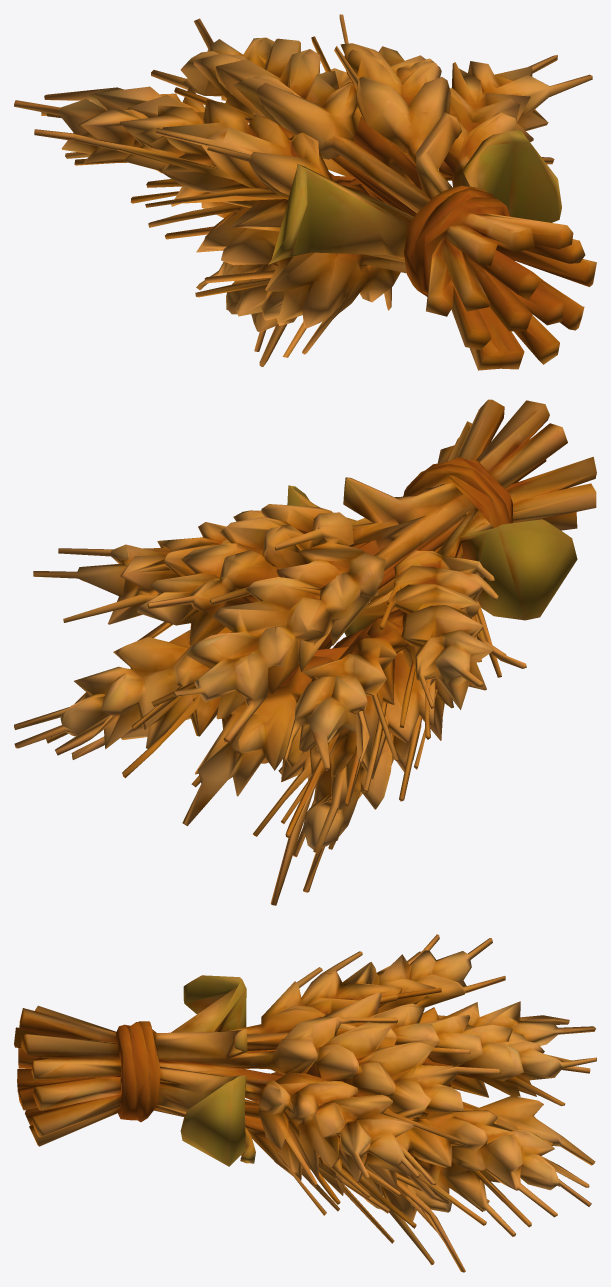
3 renders of one model, top to bottom at view 1: azimuth 30°, elevation 25°; view 2: azimuth 150°, elevation 25°; view 3: azimuth 270°, elevation 25°, orthographic. The views are drawn at different scales.
Parts seen in each view (by area): view 1: material; view 2: material; view 3: material.
Part boxes in pixels (box(x1,y1,x2,y2)): material: box(14, 14, 596, 370); material: box(14, 399, 596, 905); material: box(14, 934, 596, 1272).
Size of the model in its own units: 0.8477 by 0.5112 by 1.
Materials: 1 (1 with a texture image).
